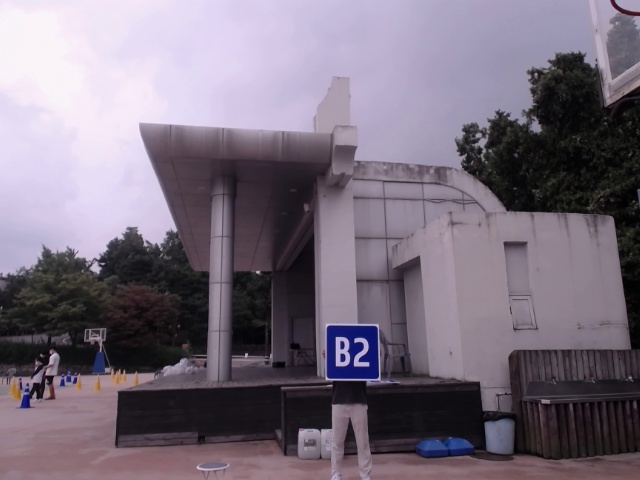delivery_b2: (325, 323, 379, 381)
